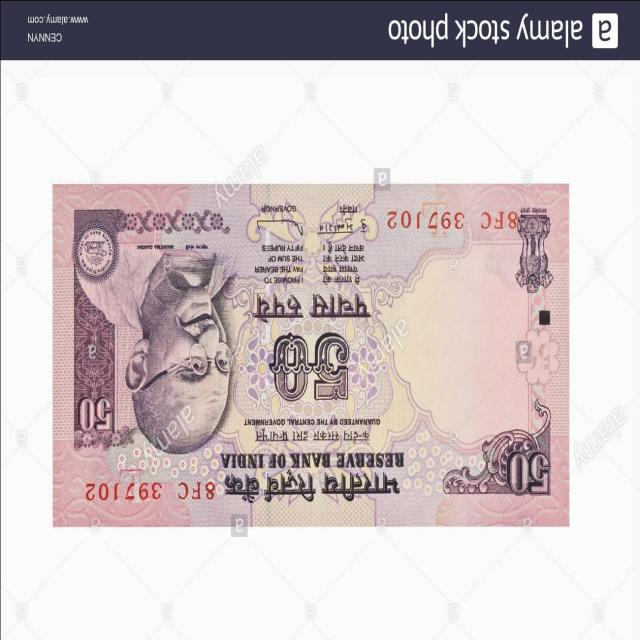50IndianRupees: (55, 180, 570, 520)
